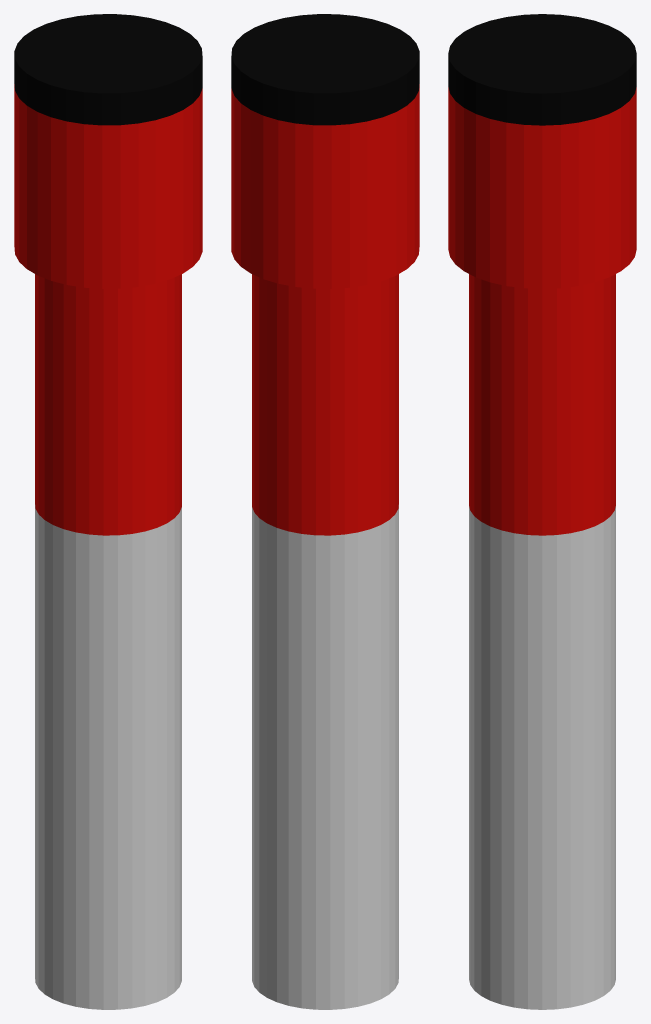
The model's file is burnybois.fbx.
3 views of the same model, side by side, from view 1: azimuth 30°, elevation 25°; view 2: azimuth 150°, elevation 25°; view 3: azimuth 270°, elevation 25° (orthographic).
Parts seen in each view (by area): view 1: Cylinder; view 2: Cylinder; view 3: Cylinder.
Part boxes in pixels (x1,y1,x2,y2): Cylinder: [14, 14, 202, 1009]; Cylinder: [231, 14, 419, 1009]; Cylinder: [448, 14, 636, 1009].
Size of the model in its own units: 13.63 by 73.82 by 13.63.
